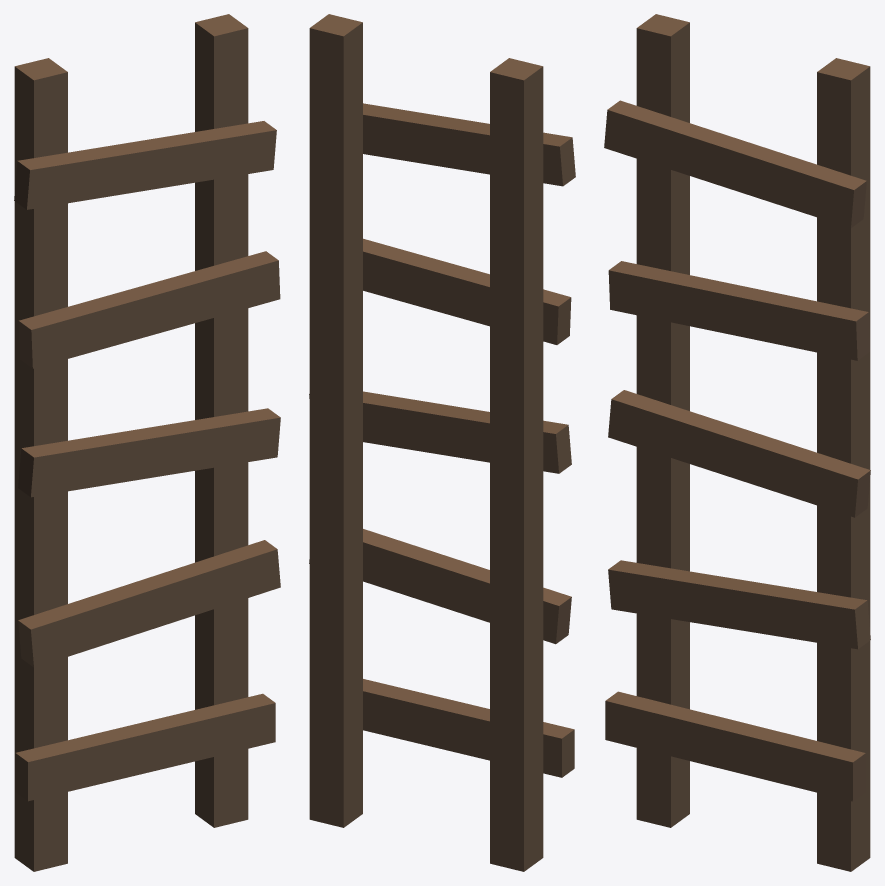
File: TB_D_Prop_Ladder_A.FBX
3 views of the same model, side by side, from view 1: azimuth 30°, elevation 25°; view 2: azimuth 150°, elevation 25°; view 3: azimuth 330°, elevation 25° (orthographic).
Visible parts, largest first — view 1: TB_D_Prop_Ladder_A; view 2: TB_D_Prop_Ladder_A; view 3: TB_D_Prop_Ladder_A.
Boxes of the visible parts, <box> form: TB_D_Prop_Ladder_A: <box>14,14,280,871</box>; TB_D_Prop_Ladder_A: <box>309,14,575,871</box>; TB_D_Prop_Ladder_A: <box>604,14,870,871</box>.
Size of the model in its own units: 1.13 by 3.38 by 0.248.
